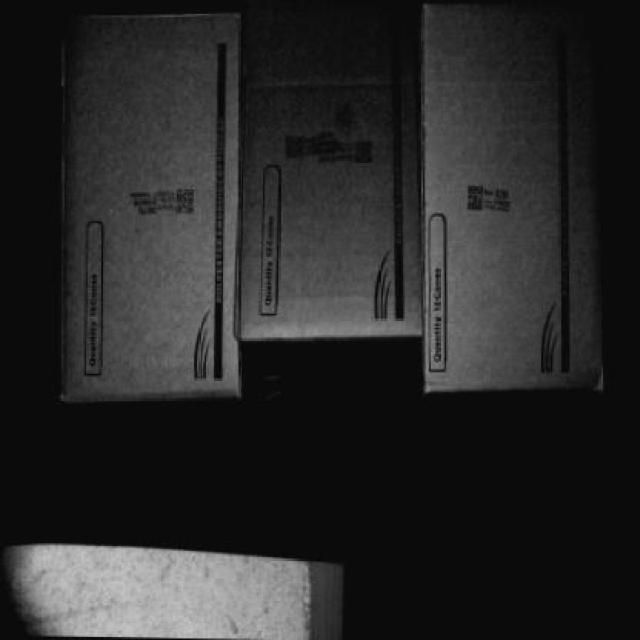cardboxes: (52, 1, 252, 397), (420, 11, 611, 391), (247, 3, 428, 331)
